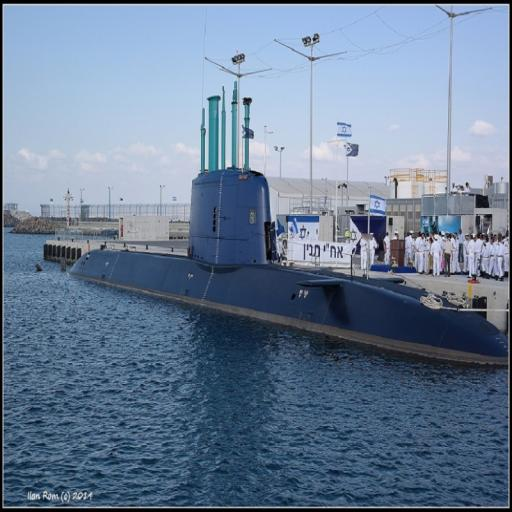submarine: (70, 171, 512, 366)
